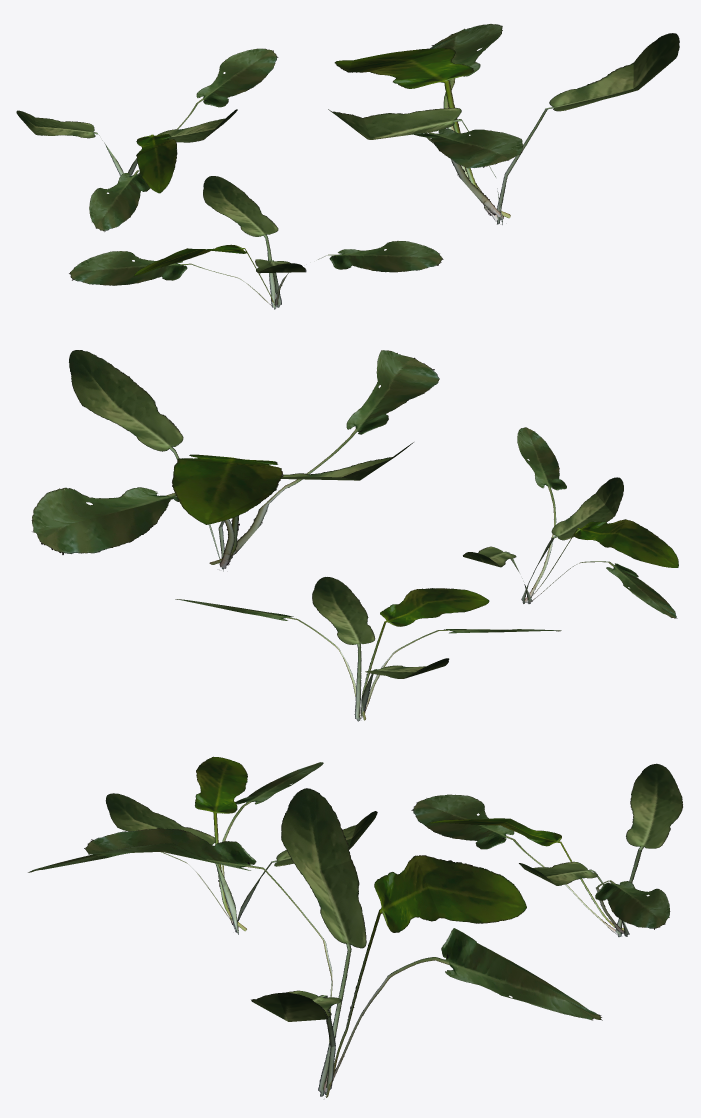
The model's file is Chicory_LOD1.fbx.
The picture shows the model from 3 angles, top to bottom: view 1: azimuth 30°, elevation 25°; view 2: azimuth 150°, elevation 25°; view 3: azimuth 270°, elevation 25°; orthographic projection. The views are drawn at different scales.
Visible parts, largest first — view 1: Chicory_LOD1; view 2: Chicory_LOD1; view 3: Chicory_LOD1.
Boxes of the visible parts, x1,y1,x2,y2 form: Chicory_LOD1: (16,24,679,309); Chicory_LOD1: (31,350,678,721); Chicory_LOD1: (28,756,682,1097).
Size of the model in its own units: 0.6253 by 0.17 by 0.4858.
